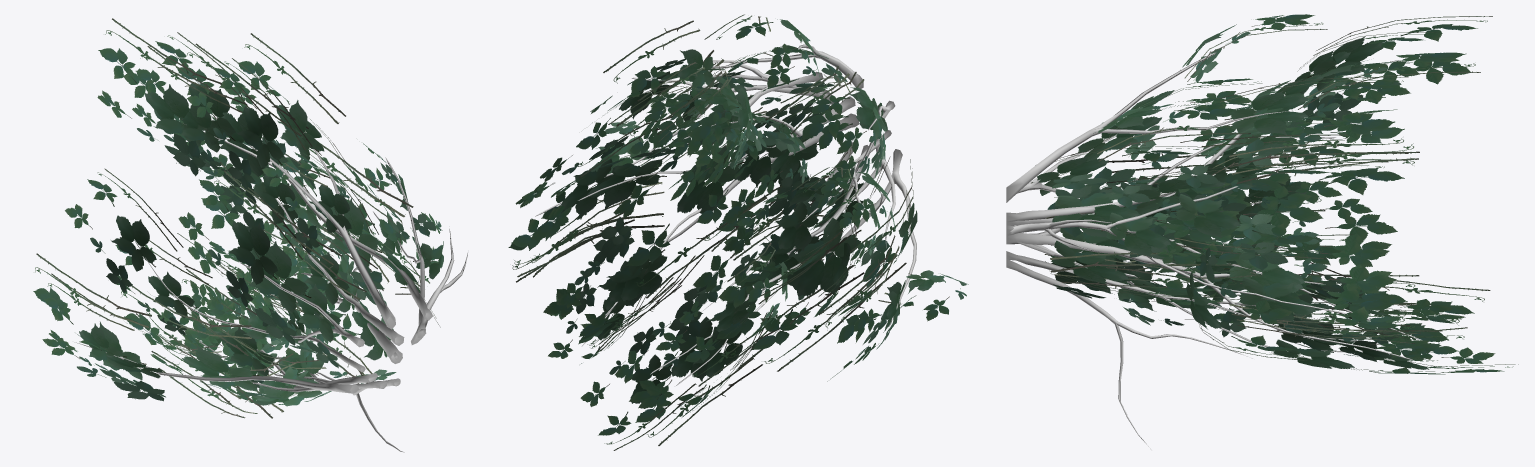
The model's file is Bush_0026.FBX.
3 views of the same model, side by side, from view 1: azimuth 30°, elevation 25°; view 2: azimuth 150°, elevation 25°; view 3: azimuth 270°, elevation 25° (orthographic). The views are drawn at different scales.
Visible parts, largest first — view 1: plant2_LOD0; view 2: plant2_LOD0; view 3: plant2_LOD0.
Part boxes in pixels (x1=…): plant2_LOD0: x1=33, y1=18, x2=467, y2=452; plant2_LOD0: x1=508, y1=14, x2=968, y2=450; plant2_LOD0: x1=1006, y1=14, x2=1518, y2=449.
Bounding box in the file's own units: 42.76 × 45.69 × 37.05.
